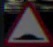Speed Breaker ahead: (7, 6, 47, 42)
